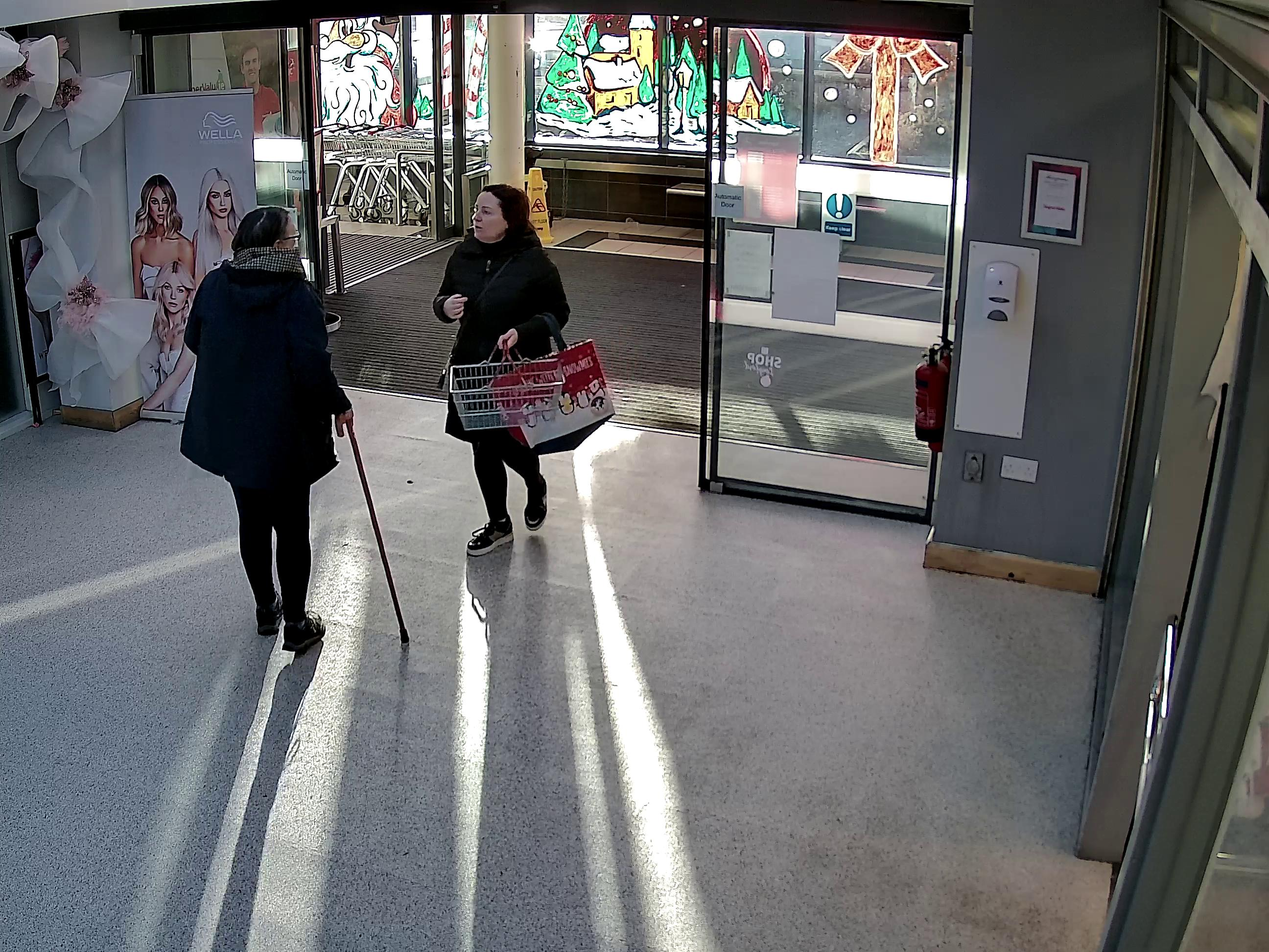empty-basket: (449, 339, 565, 433)
empty-shopping-bags: (492, 336, 614, 454)
person: (433, 183, 571, 557)
person-with-basket-trolly-and-shopping-bag: (432, 183, 613, 557)
